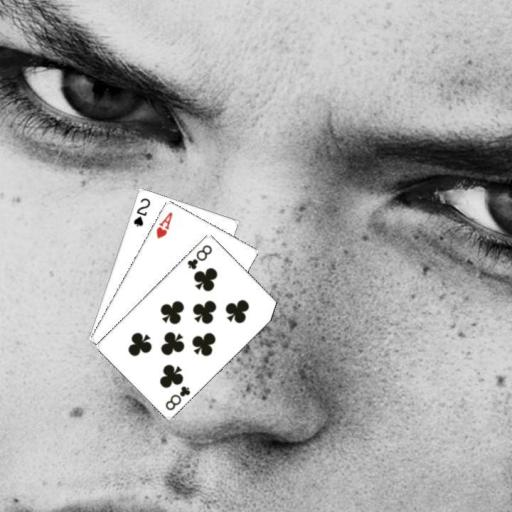2S: (130, 195, 152, 228)
8C: (184, 241, 214, 271), (162, 383, 192, 412)
AH: (153, 208, 174, 240)
